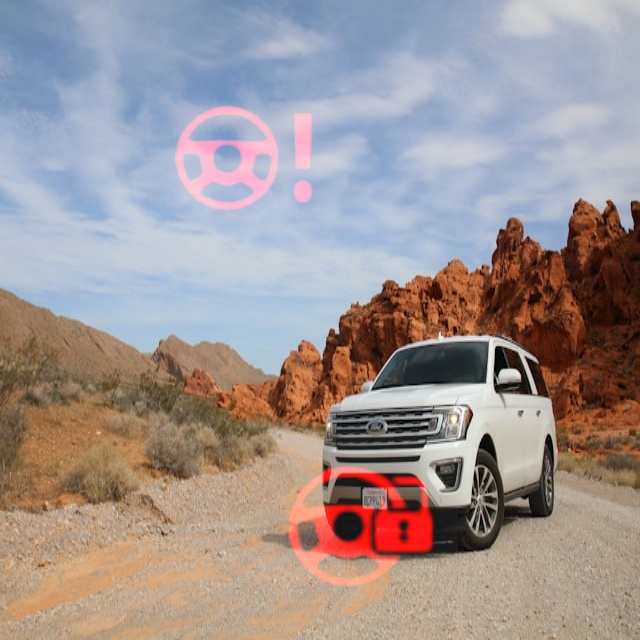symbol: (264, 431, 458, 625), (161, 76, 328, 243)
